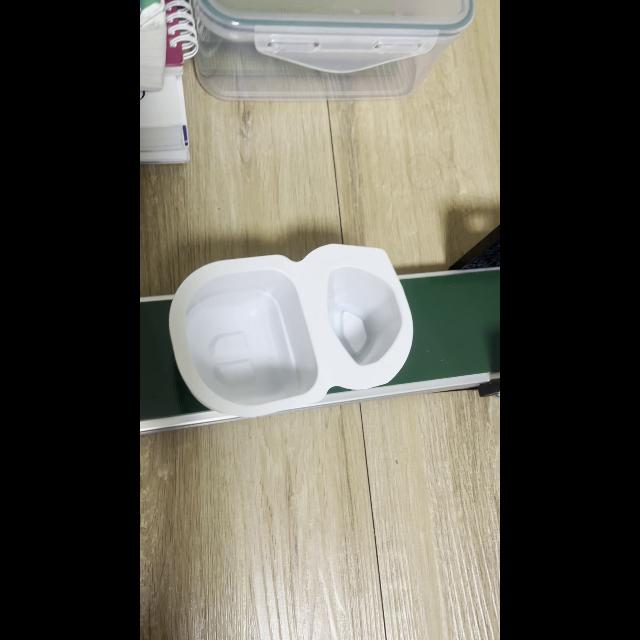clean: (175, 267, 391, 399)
